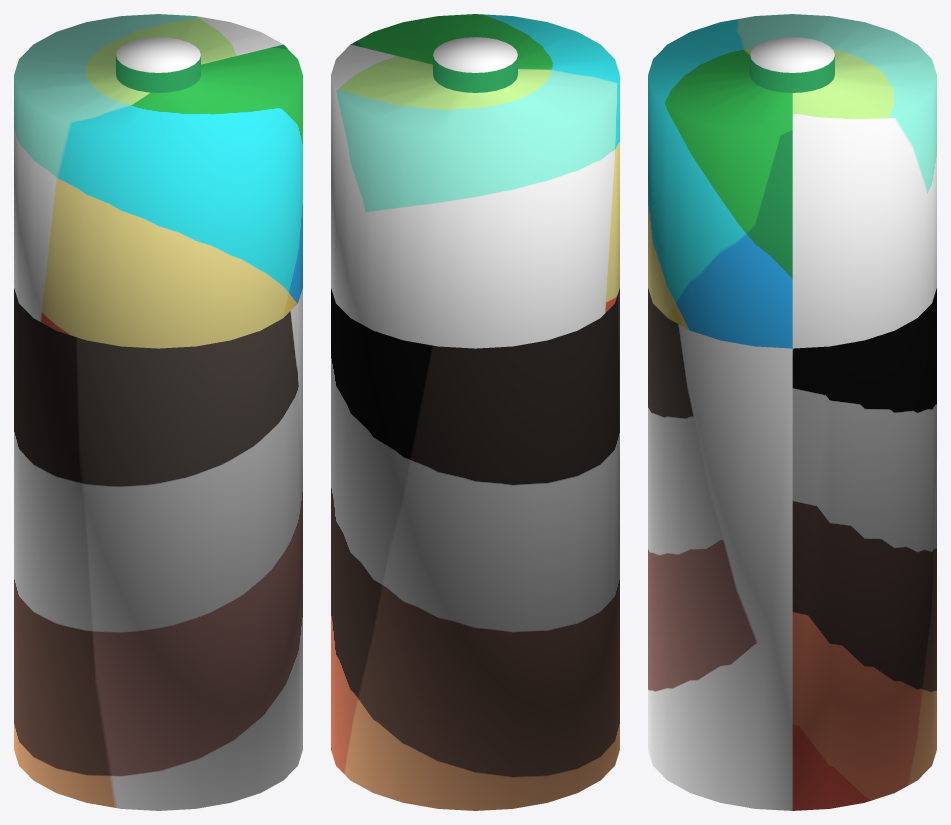
File: pilha.obj
The picture shows the model from 3 angles, left to right: view 1: azimuth 30°, elevation 25°; view 2: azimuth 150°, elevation 25°; view 3: azimuth 270°, elevation 25°; orthographic projection.
Visible parts, largest first — view 1: Cylinder; view 2: Cylinder; view 3: Cylinder.
Boxes of the visible parts, x1=… form: Cylinder: x1=14, y1=14, x2=302, y2=810; Cylinder: x1=331, y1=14, x2=619, y2=810; Cylinder: x1=648, y1=14, x2=936, y2=810.
Bounding box in the file's own units: 0.441 × 1.17 × 0.4401.
1 material, 1 textured.
